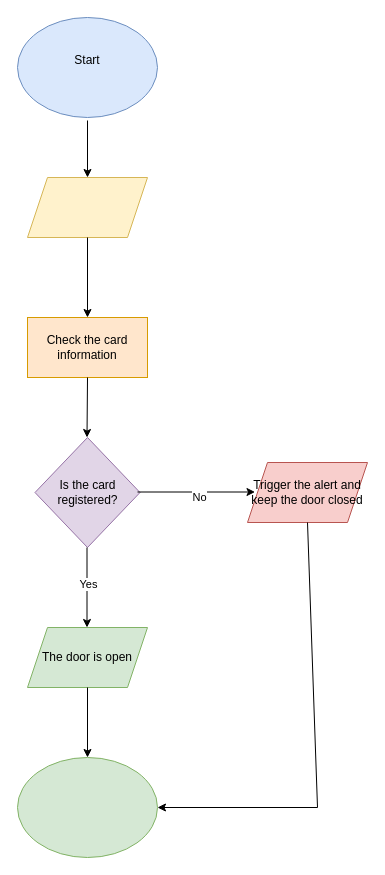
Some shapes in this 385 by 875 pixel diagram are drawn without their labels. Here are the shapes that lost their labels. From the top down, the centre of each, then its label:
At pixel 87 207: "Read the card information".
At pixel 87 807: "End".
